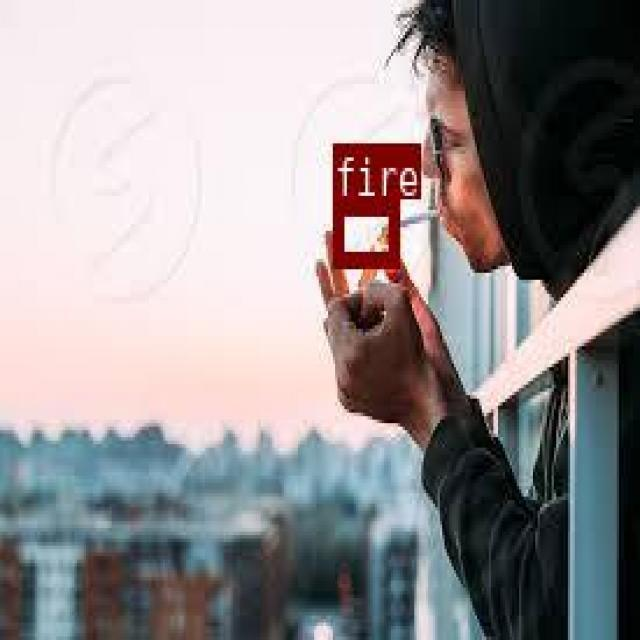fire: (332, 198, 398, 264)
